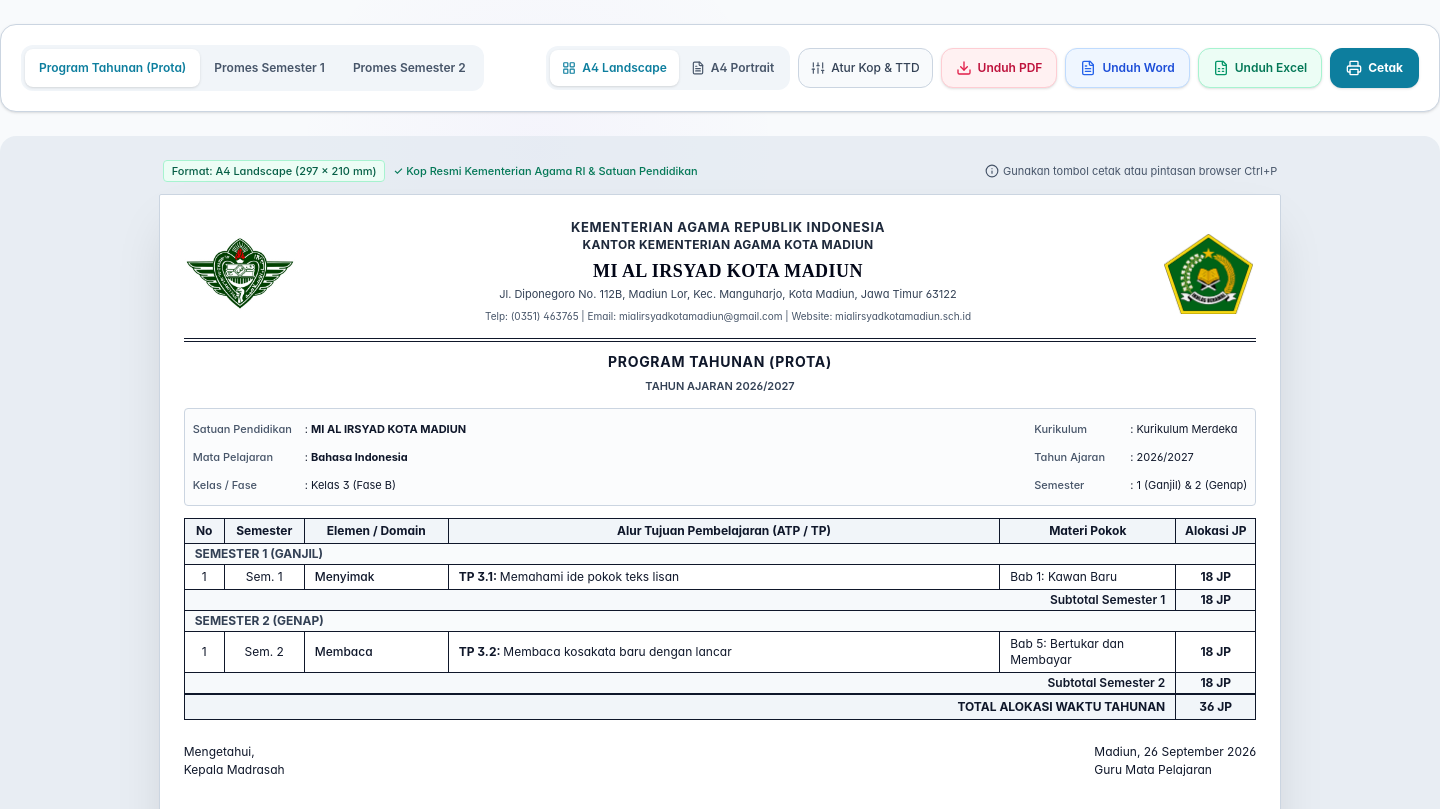
Test: PreviewTab Component - A4 Landscape & Kemenag Kop Configuration › renders Semester 2 months grid when Promes 2 tab is clicked
Click the button "Promes Semester 2": (409, 68) [339,49,480,87]
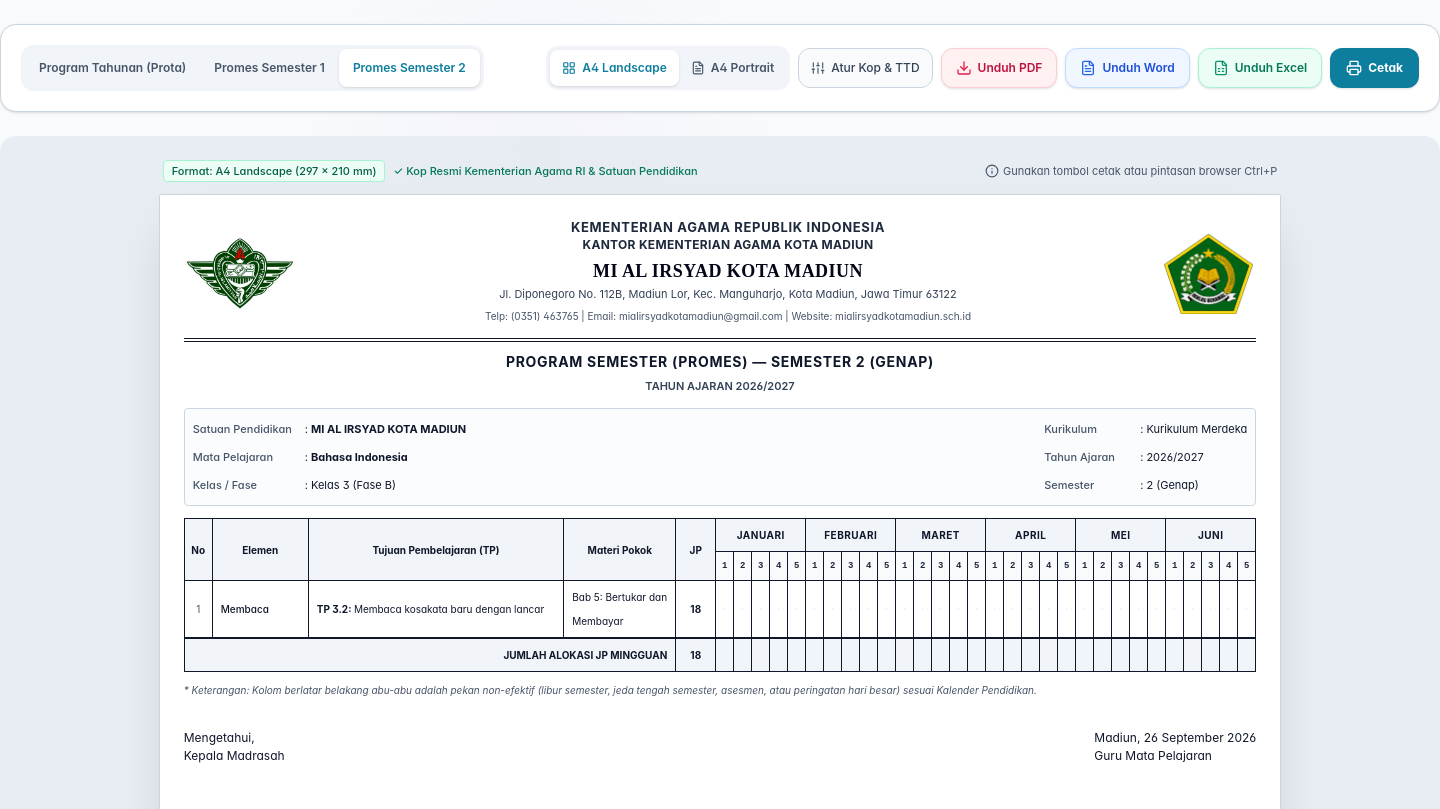
Result: the heading "PROGRAM SEMESTER (PROMES) — SEMESTER 2 (GENAP)" is shown at [506,353,934,370]
Result: the column heading "Januari" is shown at [716,519,806,552]
Result: the column heading "Februari" is shown at [806,519,896,552]
